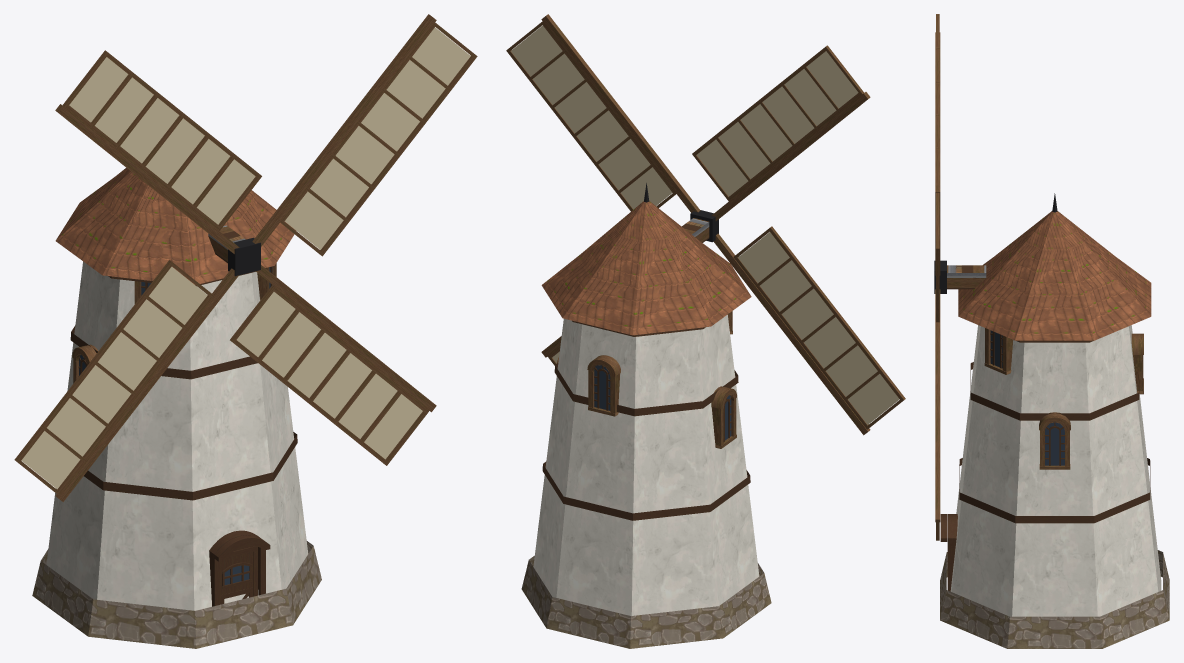
File: windmill.glb
The picture shows the model from 3 angles, left to right: view 1: azimuth 30°, elevation 25°; view 2: azimuth 150°, elevation 25°; view 3: azimuth 270°, elevation 25°; orthographic projection. The views are drawn at different scales.
Parts seen in each view (by area): view 1: Tower.002, Cap.013, Foot.001, Canvas.027, Canvas.049, Canvas.060, Canvas.038, Stock.017, Stock.039, Stock.050, Stock.028, Band.003 (+12 smaller); view 2: Tower.002, Cap.013, Foot.001, Canvas.049, Canvas.060, Canvas.027, Stock.017, Window_Thin_Round1.011, Stock.039, Band.003, Stock.050, Window_Thin_Round1.008 (+7 smaller); view 3: Tower.002, Cap.013, Foot.001, Window_Thin_Round1.007, Band.003, Stock.028, Band.004, Window_Thin_Round1.009, Shaft.015, DoorFrame_Round_WoodDark.005, SailRail.052, Window_Thin_Round1.011 (+1 smaller).
Part boxes in pixels (<box>): Tower.002: <box>46,261,308,610</box>; Cap.013: <box>55,168,295,284</box>; Foot.001: <box>32,541,321,648</box>; Canvas.027: <box>284,27,470,249</box>; Canvas.049: <box>21,267,207,489</box>; Canvas.060: <box>69,57,255,224</box>; Canvas.038: <box>236,292,422,459</box>; Stock.017: <box>252,14,436,246</box>; Stock.039: <box>55,268,238,501</box>; Stock.050: <box>55,104,239,253</box>; Stock.028: <box>256,265,436,412</box>; Band.003: <box>84,432,297,500</box>; Tower.002: <box>533,315,759,615</box>; Cap.013: <box>541,201,751,335</box>; Foot.001: <box>521,556,771,648</box>; Canvas.049: <box>738,232,899,424</box>; Canvas.060: <box>697,51,858,196</box>; Canvas.027: <box>511,25,672,209</box>; Stock.017: <box>541,14,700,212</box>; Window_Thin_Round1.011: <box>587,355,620,416</box>; Stock.039: <box>713,233,870,435</box>; Band.003: <box>542,461,750,520</box>; Stock.050: <box>712,92,870,220</box>; Window_Thin_Round1.008: <box>711,386,736,448</box>; Tower.002: <box>950,325,1161,616</box>; Cap.013: <box>958,211,1151,340</box>; Foot.001: <box>940,550,1169,648</box>; Window_Thin_Round1.007: <box>1039,412,1070,469</box>; Band.003: <box>959,458,1150,523</box>; Stock.028: <box>935,289,940,522</box>; Band.004: <box>970,362,1139,420</box>; Window_Thin_Round1.009: <box>984,328,1013,374</box>; Shaft.015: <box>947,265,986,289</box>; DoorFrame_Round_WoodDark.005: <box>940,514,957,591</box>; SailRail.052: <box>936,16,939,184</box>; Window_Thin_Round1.011: <box>1131,333,1143,394</box>.
Size of the model in its own units: 12.57 by 16.19 by 6.54.
7 materials, 4 textured.
